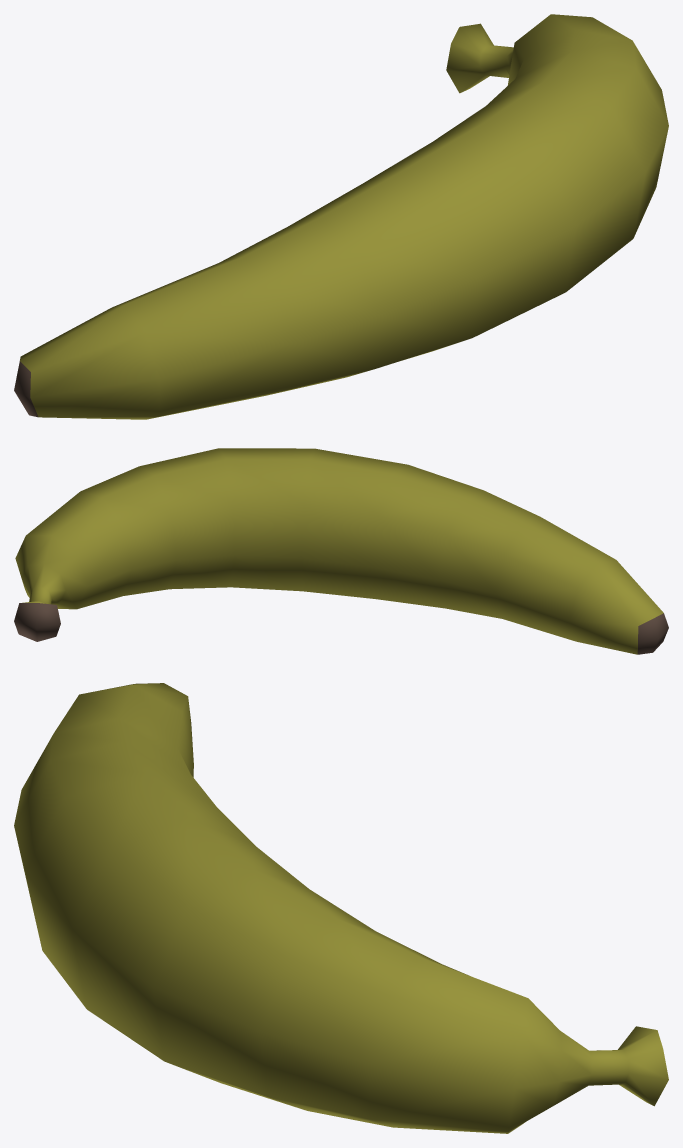
File: Banana_Unpeeled.fbx
3 views of the same model, one above another, from view 1: azimuth 30°, elevation 25°; view 2: azimuth 150°, elevation 25°; view 3: azimuth 270°, elevation 25° (orthographic). The views are drawn at different scales.
Parts seen in each view (by area): view 1: banana_unpeeled; view 2: banana_unpeeled; view 3: banana_unpeeled.
Part boxes in pixels (left/top/right/bottom): banana_unpeeled: left=14, top=14, right=668, bottom=419; banana_unpeeled: left=14, top=448, right=668, bottom=654; banana_unpeeled: left=14, top=683, right=668, bottom=1133.
Size of the model in its own units: 842 by 197 by 548.
